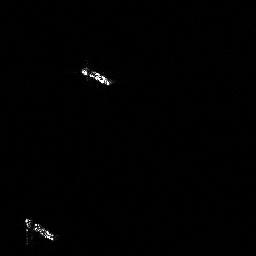ship: (20, 212, 59, 249), (78, 64, 114, 88)
